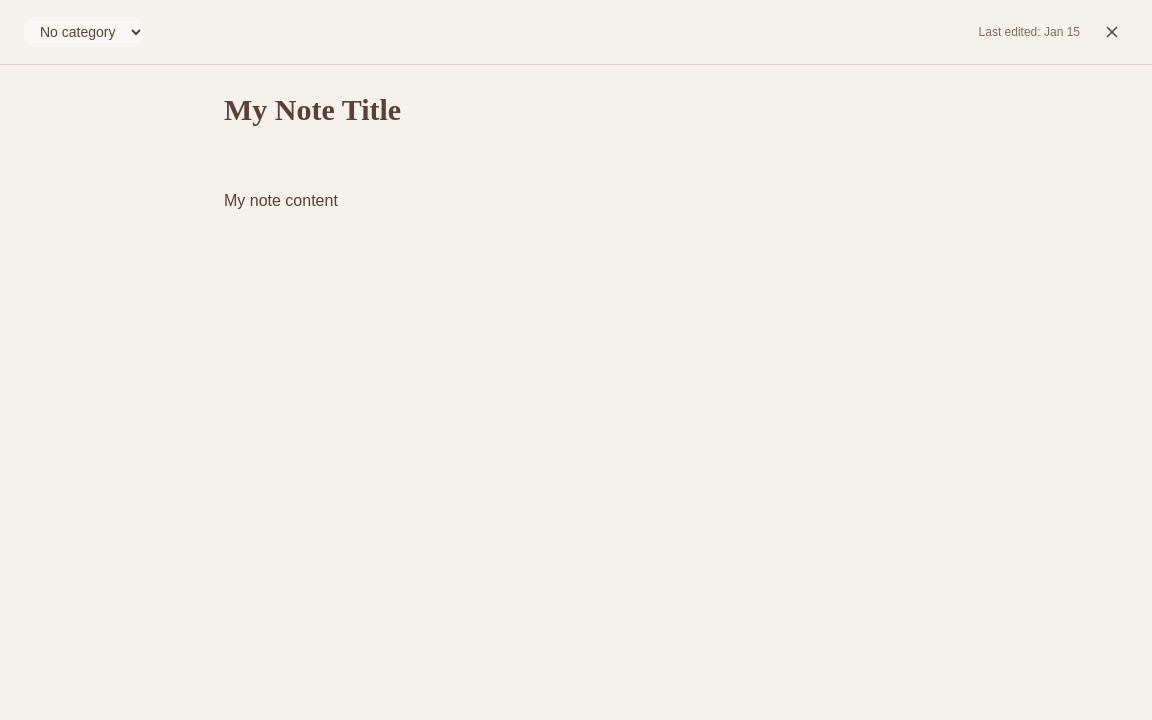
Test: NoteEditor › category change › shows save error when category update fails
Select "Work" in the dropdown. click: (84, 32)
box: [24,17,144,47]
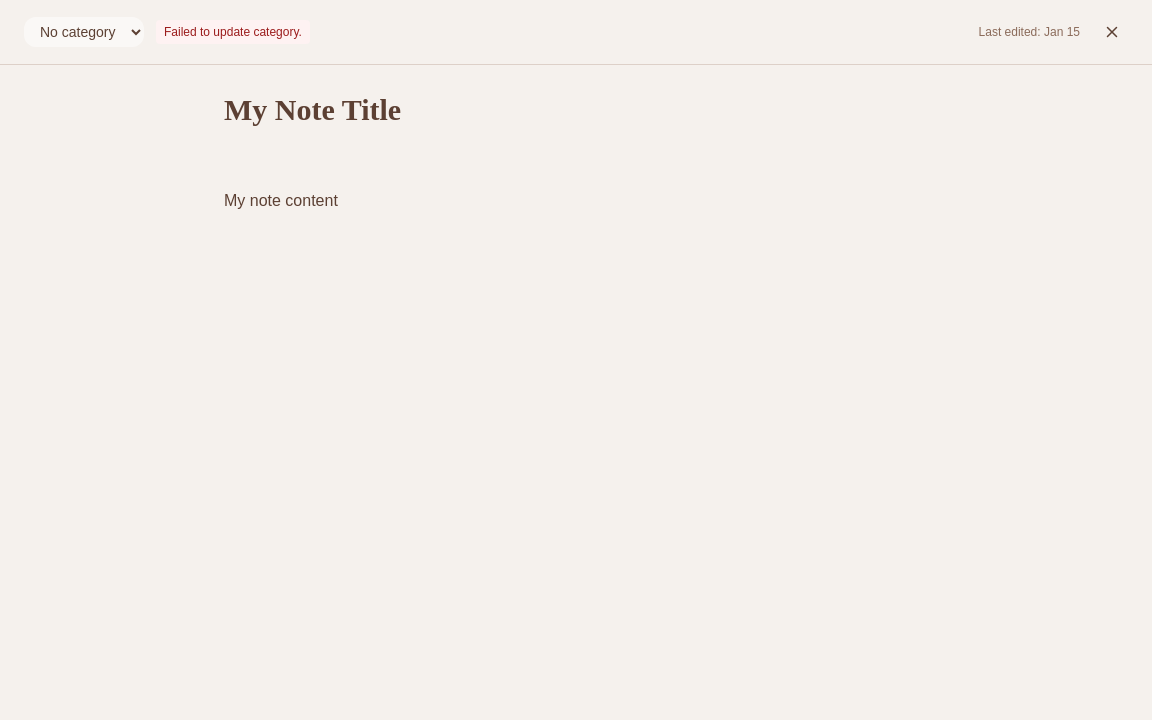
expect the text "Failed to update category." is shown: met, box [164,24,302,40]
